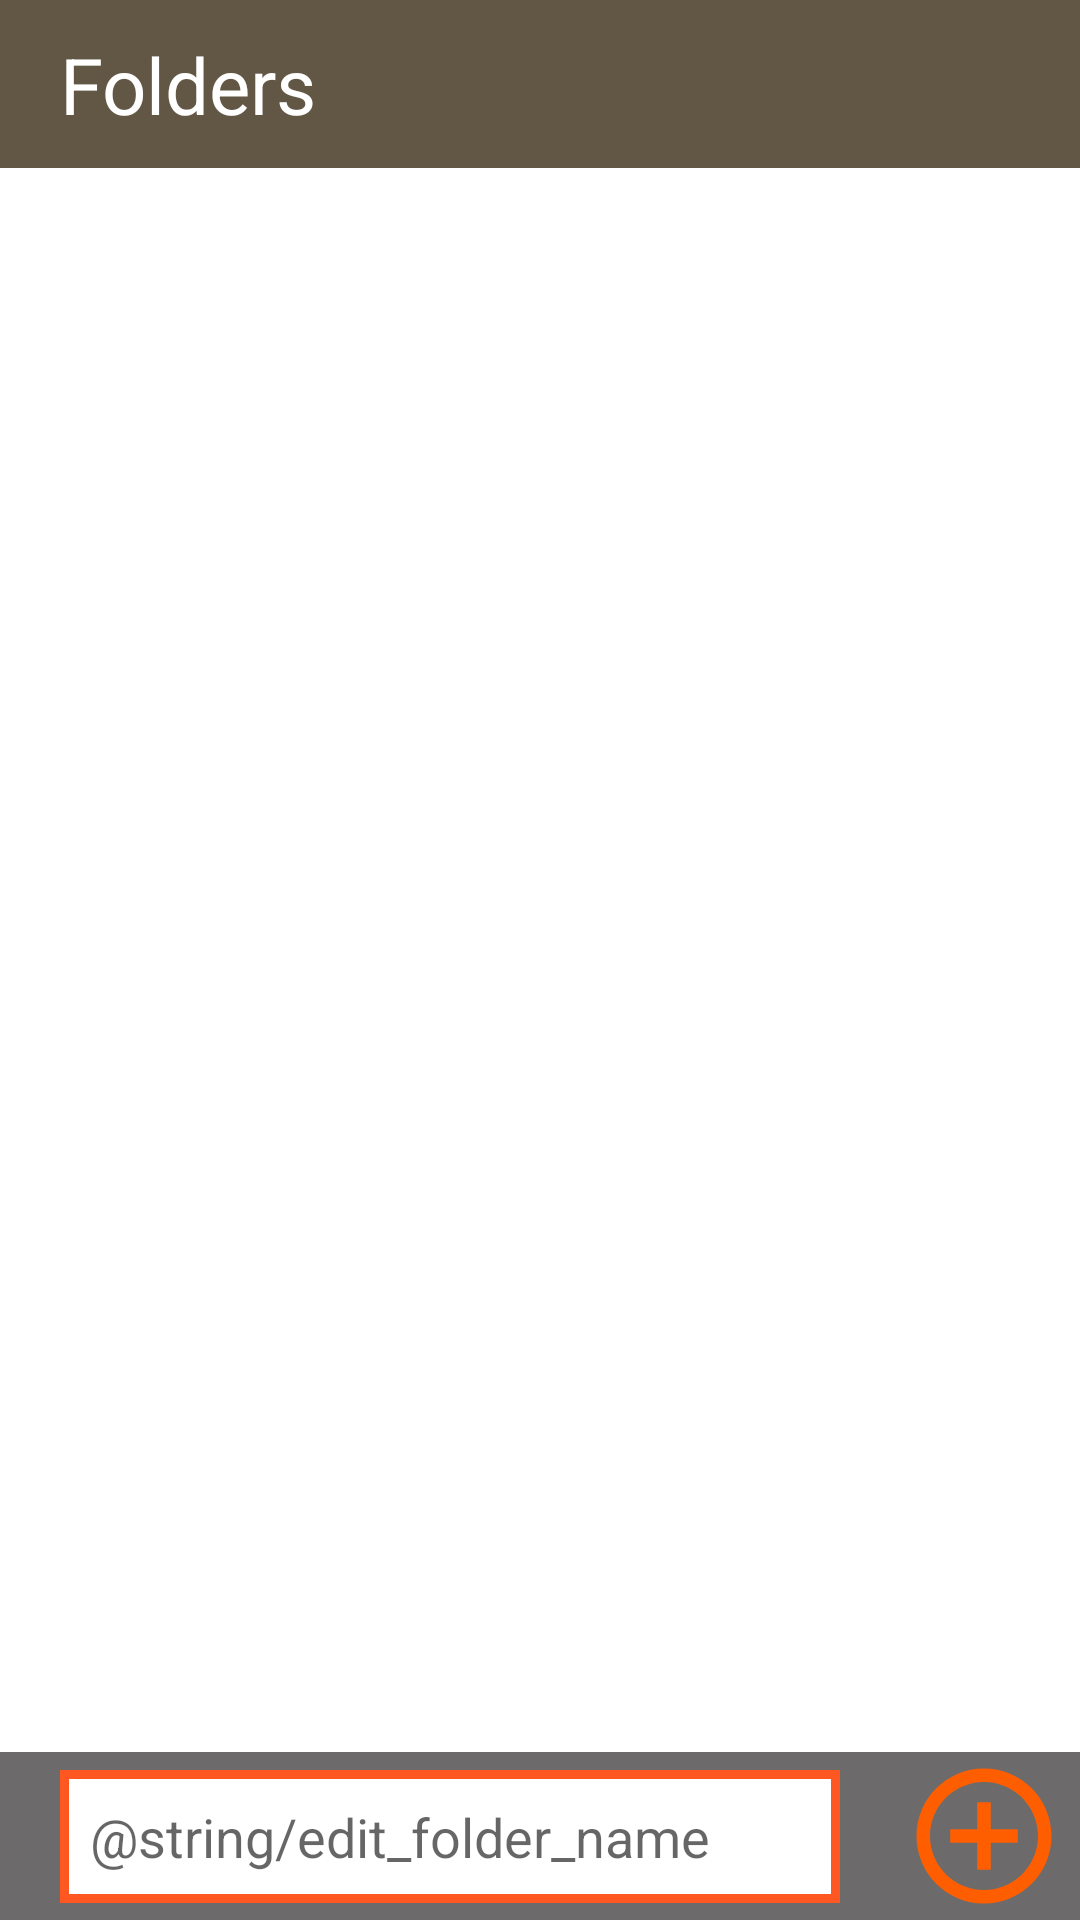

Icons on this 1080×1920 Android screen, each with the point to tap as [x,y]:
add circle: [984,1836]
